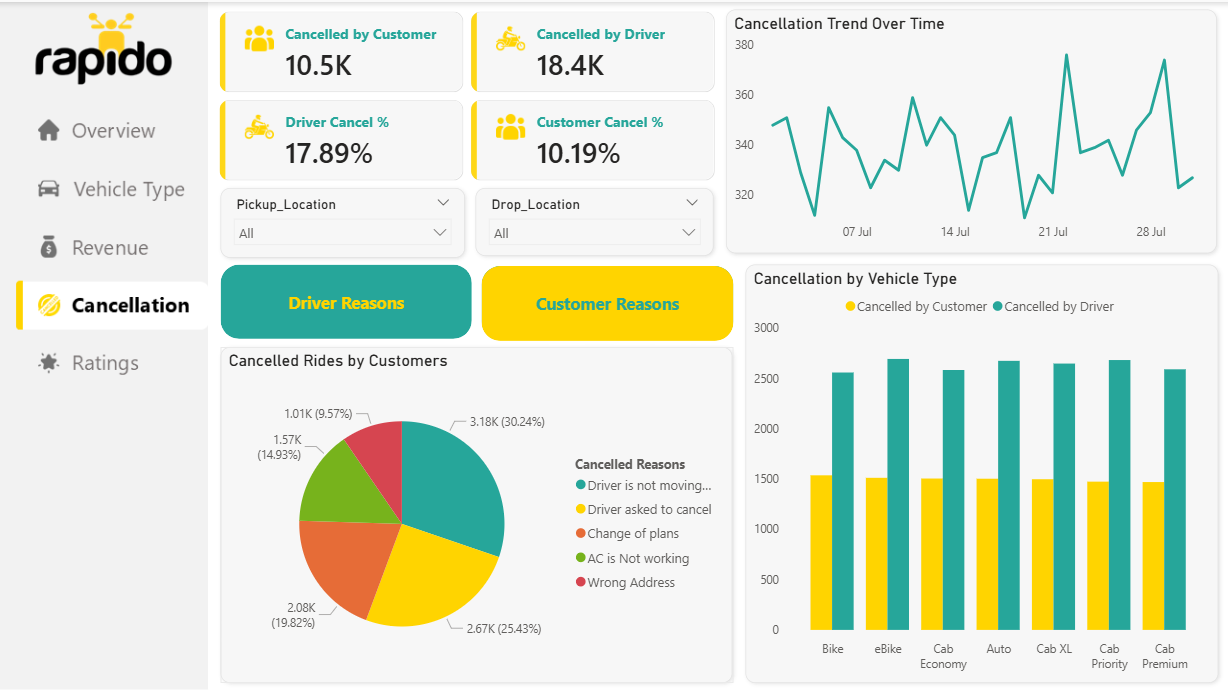

What the dashboard file says about the page in this screenshot:
{"tool":"powerbi","page":{"name":"Cancellation","canvas":[1280,720],"ordinal":3},"visuals":[{"type":"actionButton","box":[23.3,108.3,175,51.7],"z":0},{"type":"actionButton","box":[25,166.7,175,51.7],"z":1000},{"type":"actionButton","box":[26.7,226.7,175,51.7],"z":2000},{"type":"actionButton","box":[26.7,350,175,51.7],"z":3000},{"type":"lineChart","title":"Cancellation Trend Over Time","fields":{"Category":["Bookings.Date"],"Y":["Bookings.Total Cancelled Rides"]},"box":[757.1,8.2,511.3,254],"z":4000},{"type":"cardVisual","fields":{"Data":["Bookings.Cancelled by Customer","Bookings.Cancelled by Driver","Bookings.Driver Cancel %","Bookings.Customer Cancel %"]},"box":[223.5,4.7,526.7,187.6],"z":5000},{"type":"clusteredColumnChart","title":"Cancellation by Vehicle Type","fields":{"Category":["Bookings.Vehicle_Type"],"Y":["Bookings.Cancelled by Customer","Bookings.Cancelled by Driver"]},"box":[776.8,273.5,492.3,436.1],"z":7000},{"type":"slicer","fields":{"Values":["Bookings.Pickup_Location"]},"box":[229.1,193.6,254.5,72.7],"z":8000},{"type":"slicer","fields":{"Values":["Bookings.Drop_Location"]},"box":[495.5,194.5,248.2,70.9],"z":9000},{"type":"pieChart","title":"Cancelled Rides by Customers","fields":{"Category":["Bookings.Canceled_Rides_by_Customer"],"Y":["CountNonNull(Bookings.Canceled_Rides_by_Customer)"]},"box":[230,360,533.6,350],"z":10000},{"type":"actionButton","box":[501.2,274.4,262.5,76.9],"z":11000},{"type":"actionButton","box":[229.4,273.8,261.9,77.5],"z":12000},{"type":"actionButton","box":[501.7,275.1,262.6,78.1],"z":14000}]}

Visuals, with their boxes on the page's 1280x720 design canvas (x1, y1, x2, y2). These are canvas units, not pixel positions in the 1228x690 screenshot, which may show the page scaled, cropped or inside an application window:
actionButton: {"left": 23, "top": 108, "right": 198, "bottom": 160}
actionButton: {"left": 25, "top": 167, "right": 200, "bottom": 218}
actionButton: {"left": 27, "top": 227, "right": 202, "bottom": 278}
actionButton: {"left": 27, "top": 350, "right": 202, "bottom": 402}
"Cancellation Trend Over Time" lineChart: {"left": 757, "top": 8, "right": 1268, "bottom": 262}
cardVisual - Bookings.Cancelled by Customer x Bookings.Cancelled by Driver: {"left": 224, "top": 5, "right": 750, "bottom": 192}
"Cancellation by Vehicle Type" clusteredColumnChart: {"left": 777, "top": 274, "right": 1269, "bottom": 710}
slicer - Bookings.Pickup_Location: {"left": 229, "top": 194, "right": 484, "bottom": 266}
slicer - Bookings.Drop_Location: {"left": 496, "top": 194, "right": 744, "bottom": 265}
"Cancelled Rides by Customers" pieChart: {"left": 230, "top": 360, "right": 764, "bottom": 710}
actionButton: {"left": 501, "top": 274, "right": 764, "bottom": 351}
actionButton: {"left": 229, "top": 274, "right": 491, "bottom": 351}
actionButton: {"left": 502, "top": 275, "right": 764, "bottom": 353}
